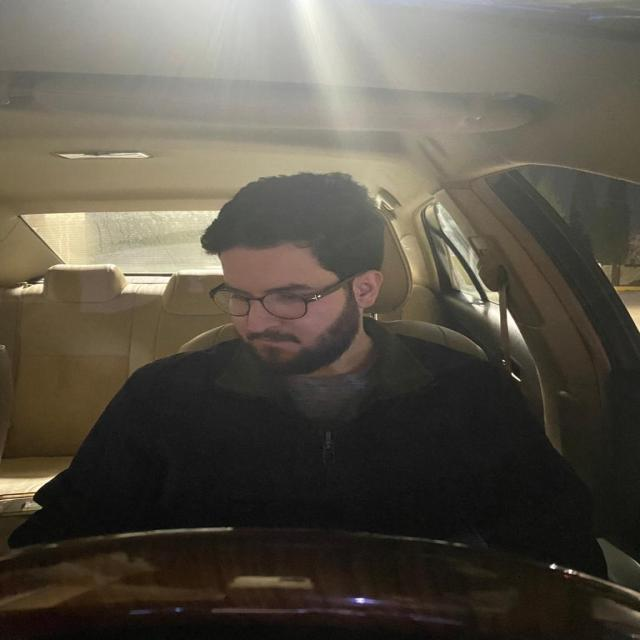person: (198, 168, 394, 383)
